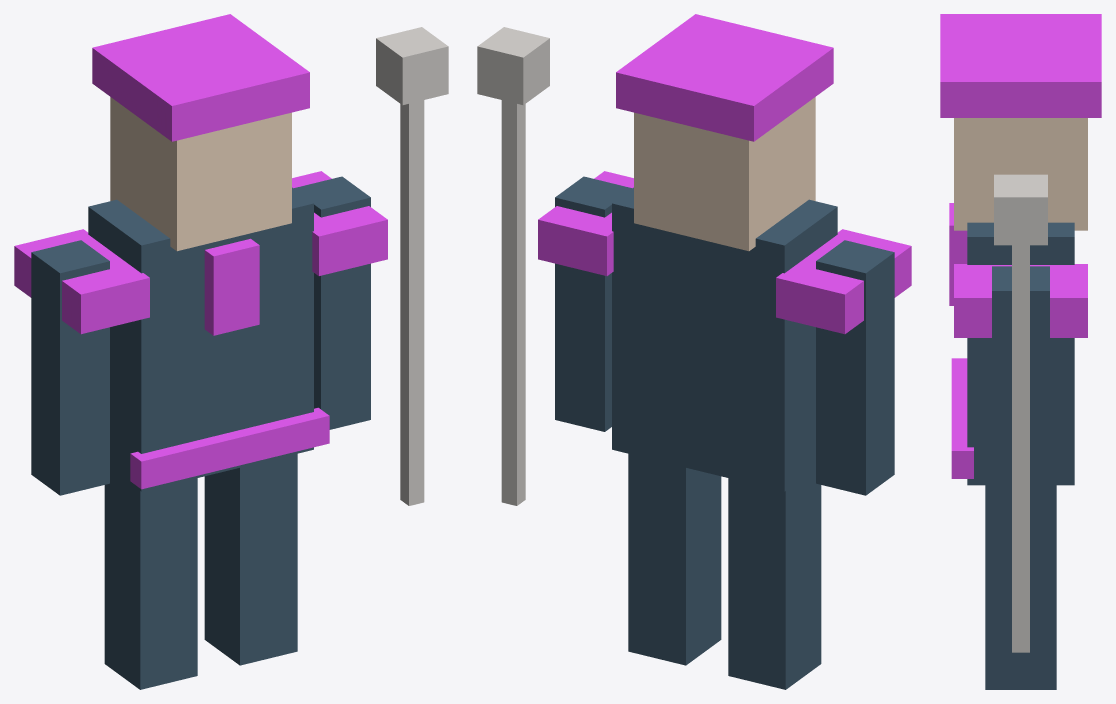
Rendered from 05_thorne_echohand_keeper_under_service.glb.
3 views of the same model, side by side, from view 1: azimuth 30°, elevation 25°; view 2: azimuth 150°, elevation 25°; view 3: azimuth 270°, elevation 25° (orthographic).
Parts seen in each view (by area): view 1: Thorne Echohand, Keeper under Service; view 2: Thorne Echohand, Keeper under Service; view 3: Thorne Echohand, Keeper under Service.
Part boxes in pixels (left/top/right/bottom): Thorne Echohand, Keeper under Service: left=14, top=14, right=448, bottom=689; Thorne Echohand, Keeper under Service: left=477, top=14, right=911, bottom=689; Thorne Echohand, Keeper under Service: left=940, top=14, right=1101, bottom=689.
Size of the model in its own units: 1.05 by 1.54 by 0.3719.
